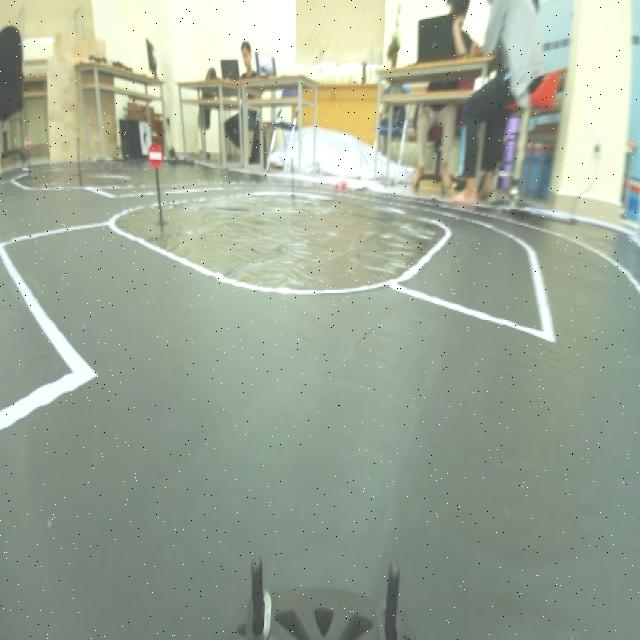no_entry: (141, 140, 168, 174)
